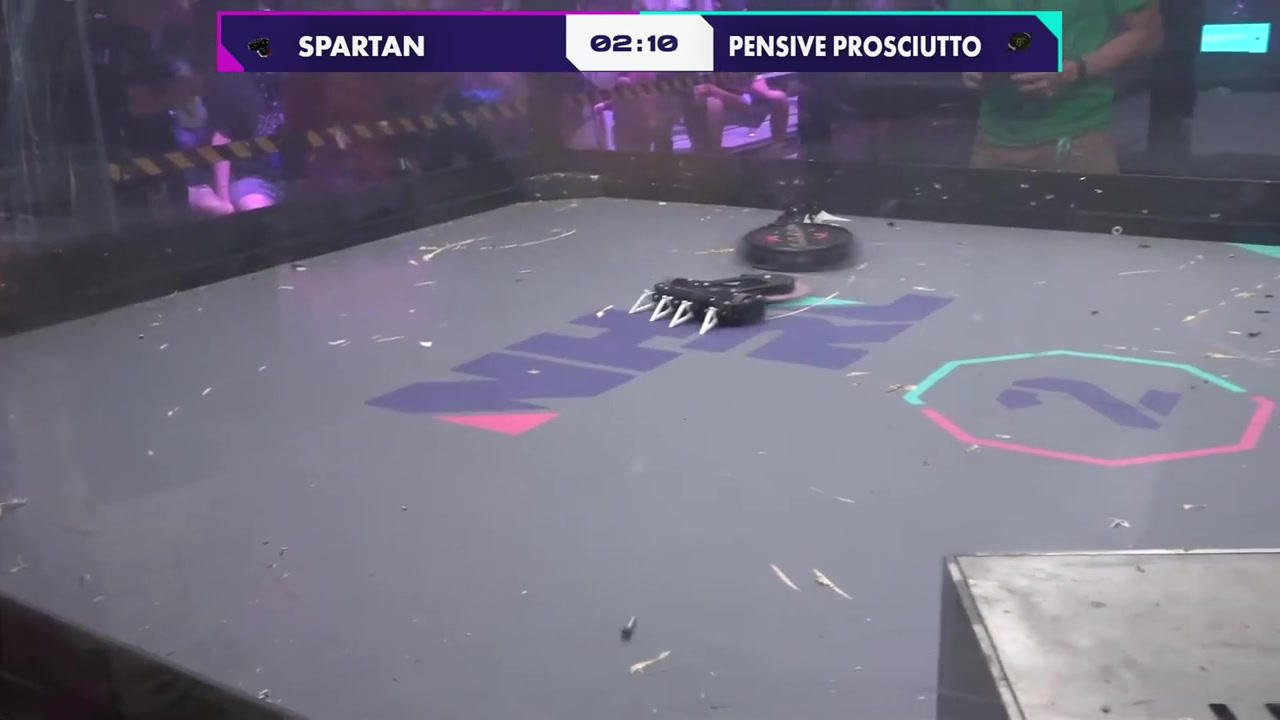combatbot: (647, 272, 796, 328), (739, 206, 861, 270)
housebot: (939, 547, 1280, 720)
